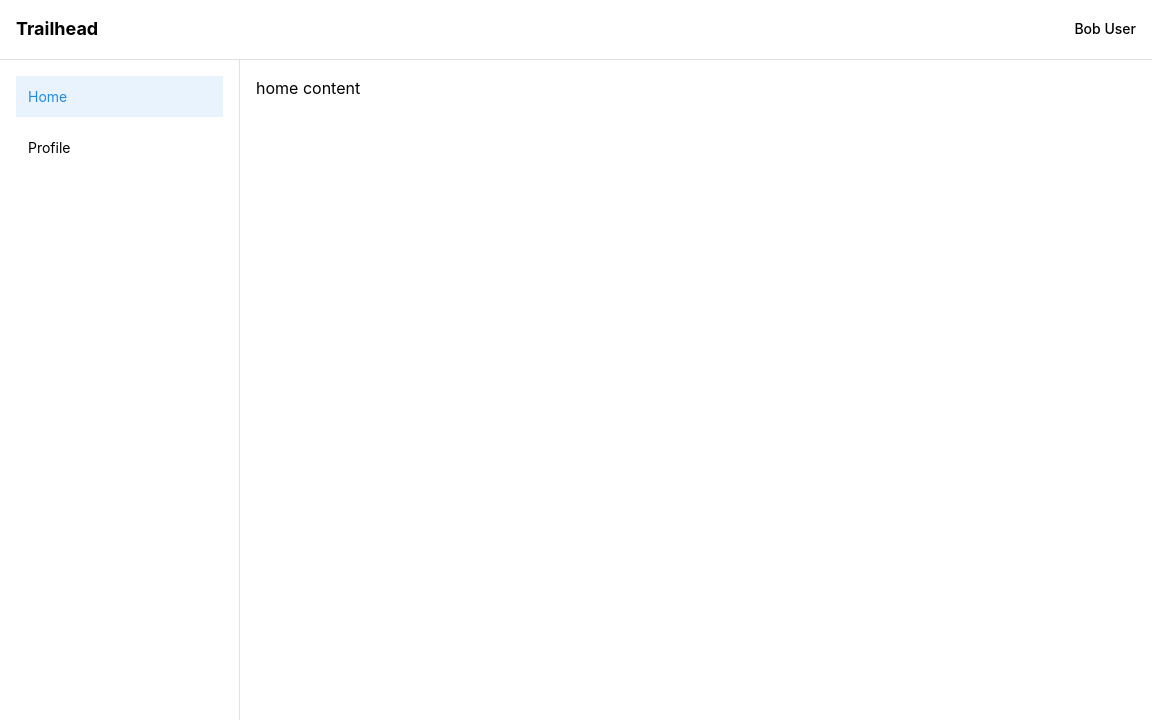
AppLayout › opens the user menu and exposes profile + sign out items
Click the button with aria-label "user menu" at (1105, 29), box [1074,19,1136,40]
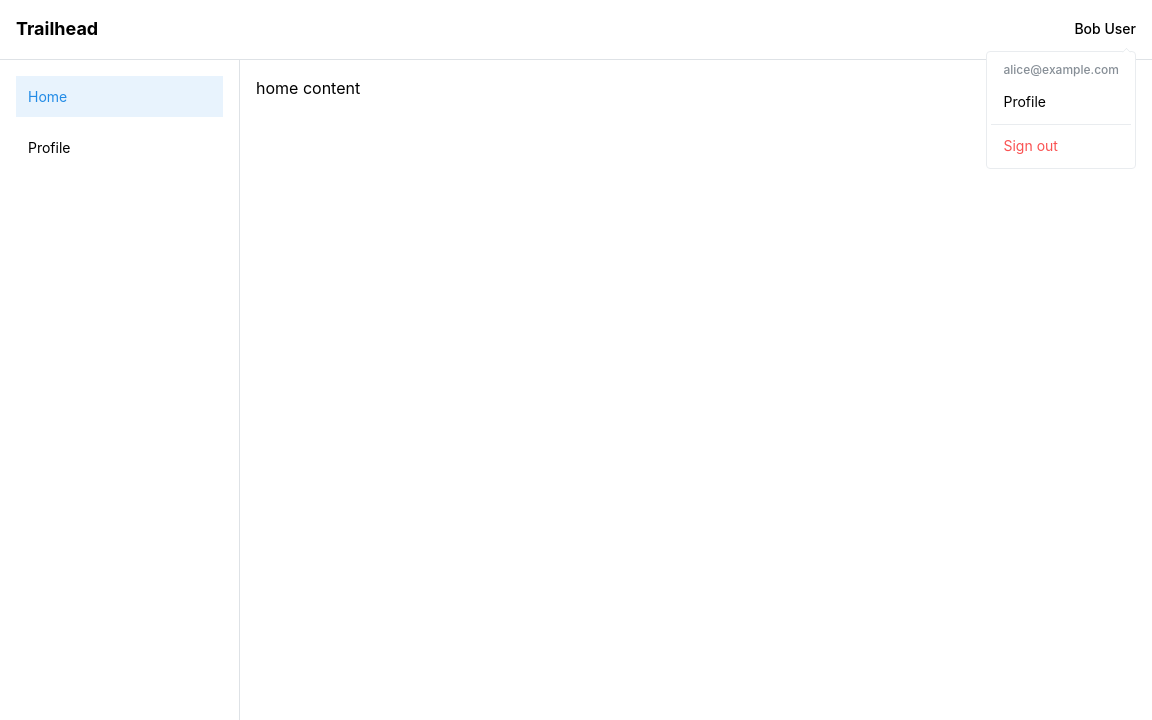
Expected: the text "Profile" below "home content" is shown, [28,139,70,156]
Result: the text "Sign out" is shown at [1004,137,1058,154]
